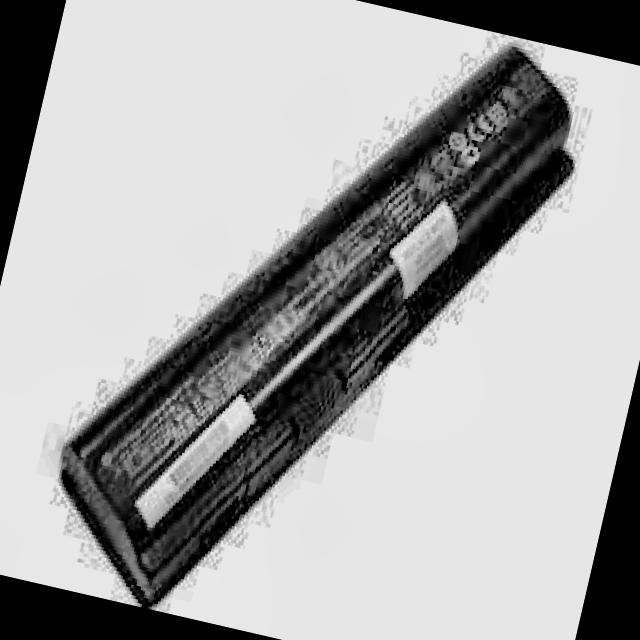Battery: (12, 0, 607, 640)
